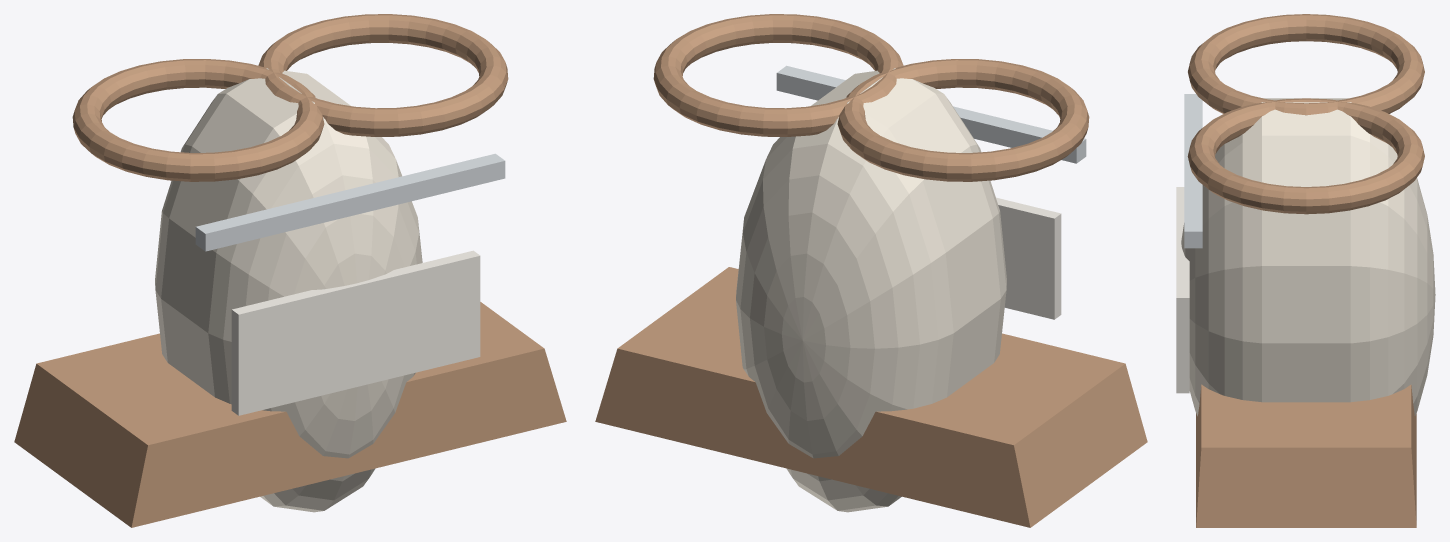
Rendered from bag_urbano.glb.
The picture shows the model from 3 angles, left to right: view 1: azimuth 30°, elevation 25°; view 2: azimuth 150°, elevation 25°; view 3: azimuth 270°, elevation 25°; orthographic projection. The views are drawn at different scales.
Visible parts, largest first — view 1: Base, BagBody, Pocket, Handle-0.19, Handle0.19, Zip; view 2: BagBody, Base, Handle-0.19, Handle0.19, Pocket, Zip; view 3: BagBody, Base, Handle0.19, Handle-0.19, Pocket, Zip.
Boxes of the visible parts, left/top/right/bottom form: Base: left=14, top=302, right=566, bottom=527; BagBody: left=155, top=68, right=422, bottom=512; Pocket: left=231, top=250, right=480, bottom=415; Handle-0.19: left=72, top=59, right=324, bottom=181; Handle0.19: left=258, top=14, right=508, bottom=136; Zip: left=195, top=153, right=505, bottom=251; BagBody: left=736, top=68, right=1006, bottom=512; Base: left=595, top=267, right=1147, bottom=527; Handle-0.19: left=837, top=59, right=1089, bottom=181; Handle0.19: left=653, top=14, right=903, bottom=136; Pocket: left=996, top=197, right=1061, bottom=319; Zip: left=776, top=65, right=1086, bottom=163; BagBody: left=1181, top=98, right=1435, bottom=416; Base: left=1196, top=384, right=1416, bottom=527; Handle0.19: left=1187, top=98, right=1424, bottom=214; Handle-0.19: left=1188, top=14, right=1424, bottom=115; Pocket: left=1176, top=187, right=1189, bottom=393; Zip: left=1184, top=94, right=1202, bottom=248.
Bounding box in the file's own units: 0.9 × 0.8108 × 0.4935.
